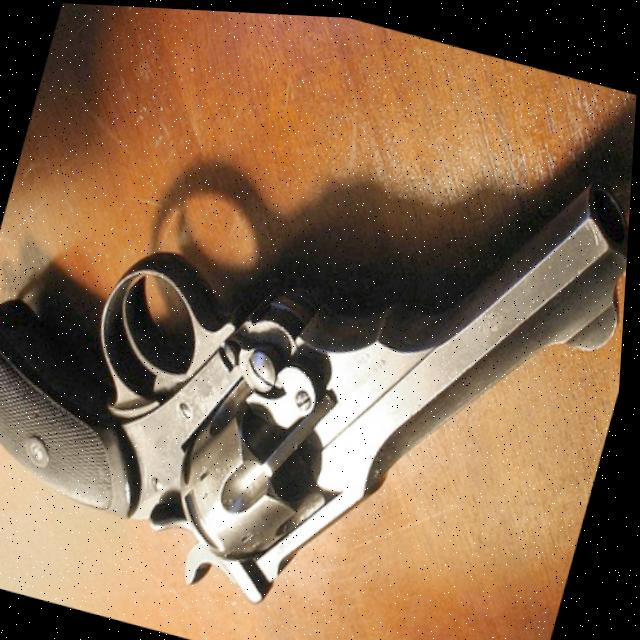pistol: (0, 24, 639, 640)
